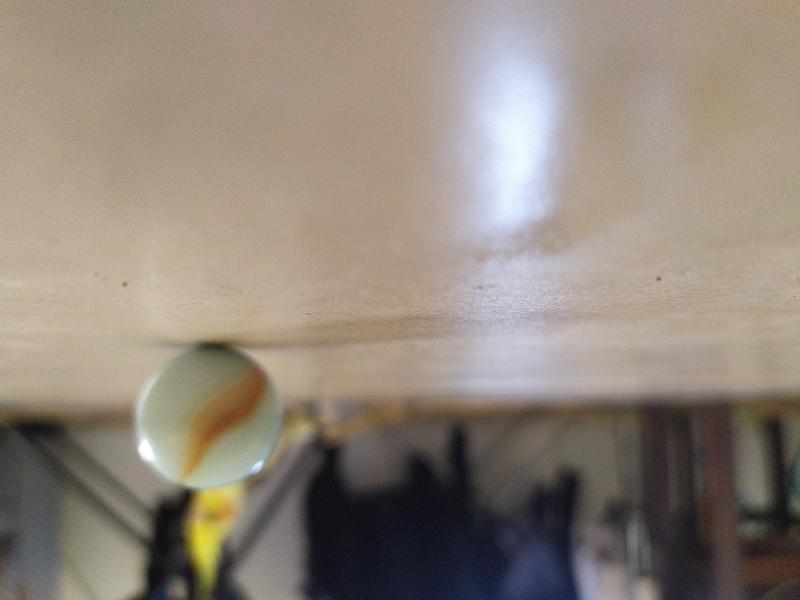Warning: (129, 338, 289, 495)
